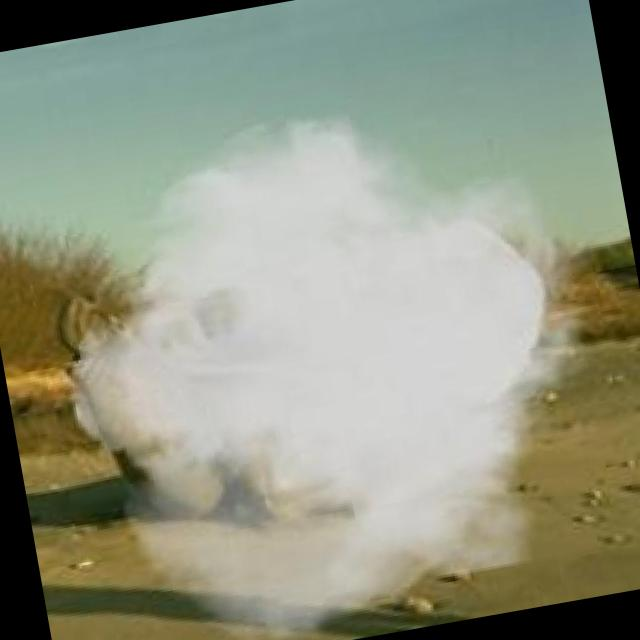Smoke: (27, 63, 640, 640)
